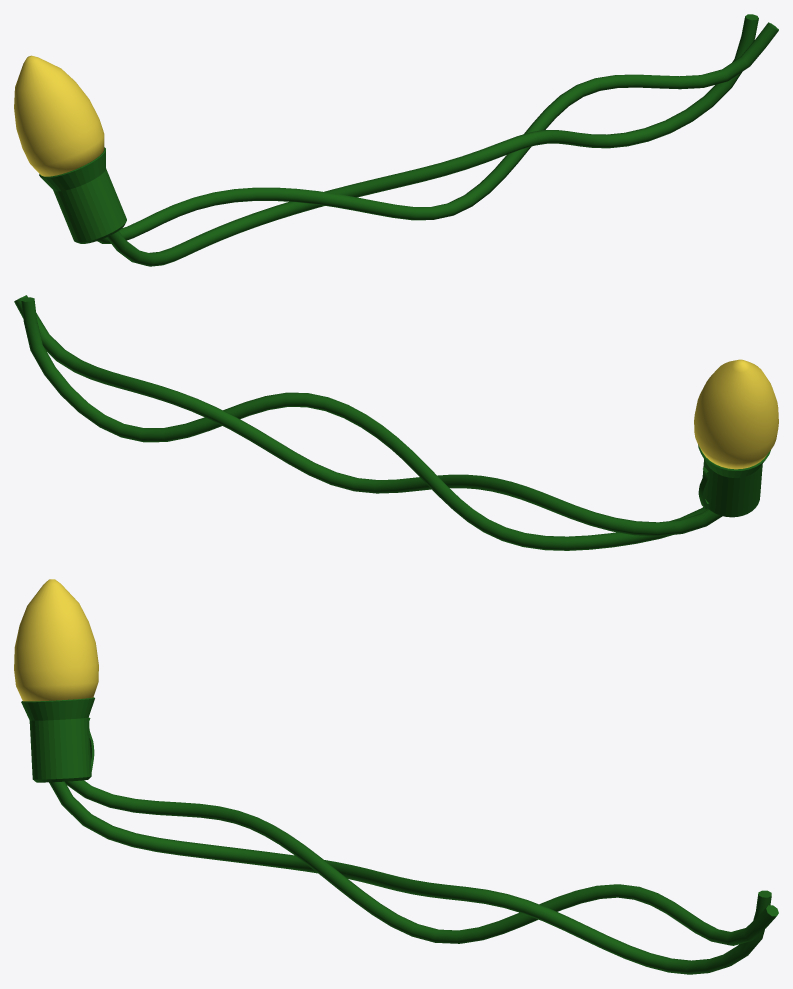
File: festiveLight2.fbx
The picture shows the model from 3 angles, top to bottom: view 1: azimuth 30°, elevation 25°; view 2: azimuth 150°, elevation 25°; view 3: azimuth 330°, elevation 25°; orthographic projection. The views are drawn at different scales.
Parts seen in each view (by area): view 1: Festive Light 2; view 2: Festive Light 2; view 3: Festive Light 2.
Boxes of the visible parts, x1=… form: Festive Light 2: x1=14, y1=14, x2=778, y2=266; Festive Light 2: x1=14, y1=295, x2=778, y2=550; Festive Light 2: x1=14, y1=579, x2=778, y2=974.
Size of the model in its own units: 317 by 97.16 by 39.14.
